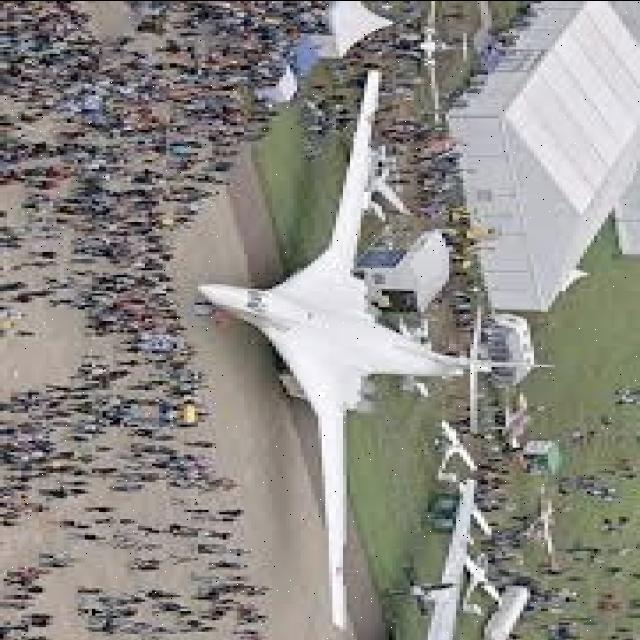Tu160: (147, 55, 547, 627)
